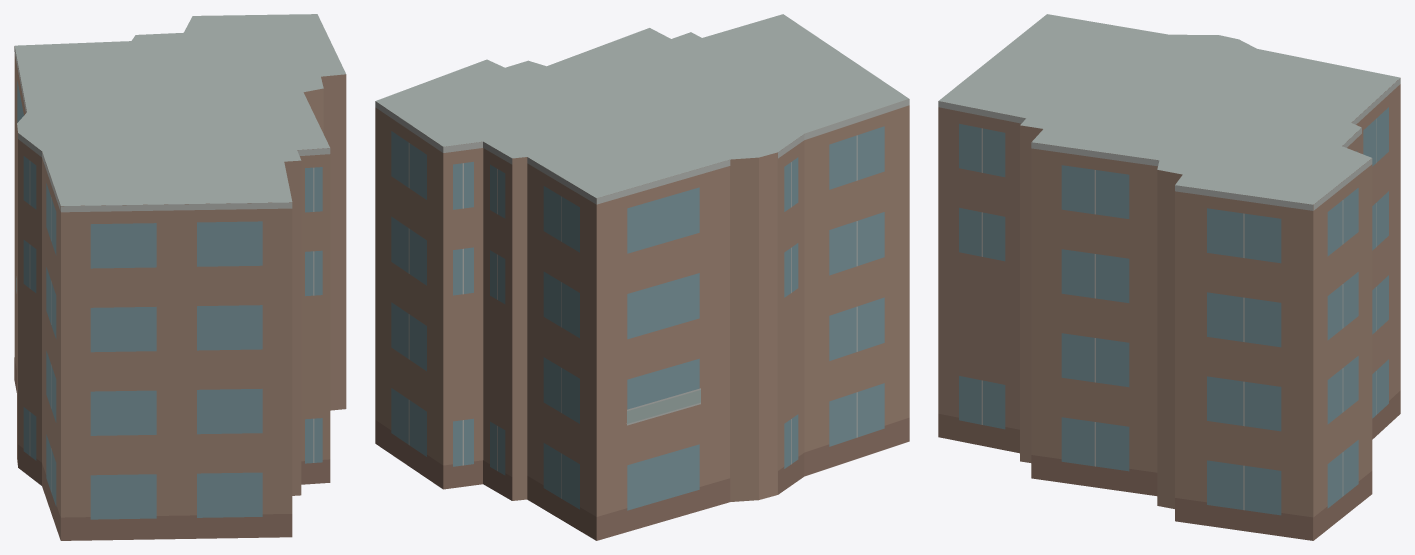
File: survey-upis-32829870.glb
3 renders of one model, left to right at view 1: azimuth 30°, elevation 25°; view 2: azimuth 150°, elevation 25°; view 3: azimuth 270°, elevation 25°, orthographic. The views are drawn at different scales.
Parts seen in each view (by area): view 1: survey-upis-32829870.tmp; view 2: survey-upis-32829870.tmp; view 3: survey-upis-32829870.tmp.
Boxes of the visible parts, left/top/right/bottom form: survey-upis-32829870.tmp: left=14, top=14, right=346, bottom=540; survey-upis-32829870.tmp: left=375, top=14, right=909, bottom=540; survey-upis-32829870.tmp: left=938, top=14, right=1400, bottom=540.
Bounding box in the file's own units: 16.07 × 13.2 × 16.46.
